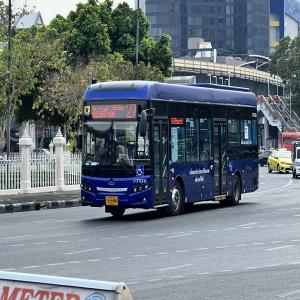Bus Line Number: (125, 102, 138, 120)
Bus Side Number: (131, 178, 147, 183)
Destination Sign: (90, 102, 124, 120)
TSB-Bus: (80, 81, 259, 219)
